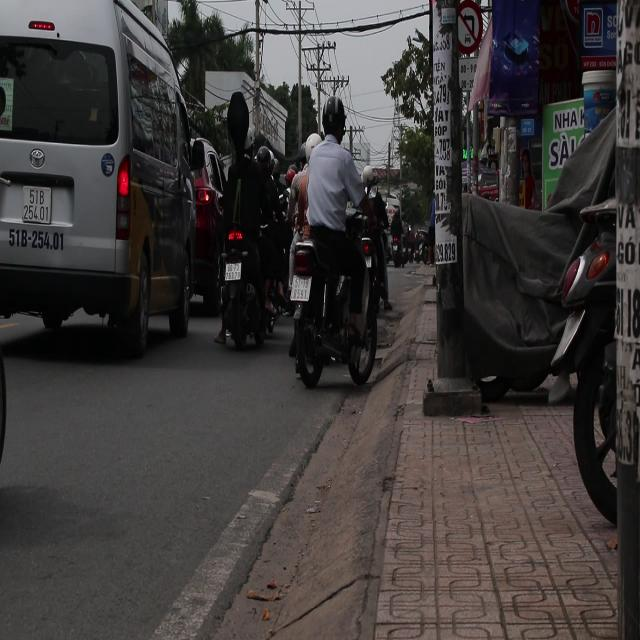car: (2, 0, 216, 362), (178, 111, 232, 325)
motorbike: (288, 224, 386, 426), (218, 206, 272, 382), (357, 202, 391, 312)
